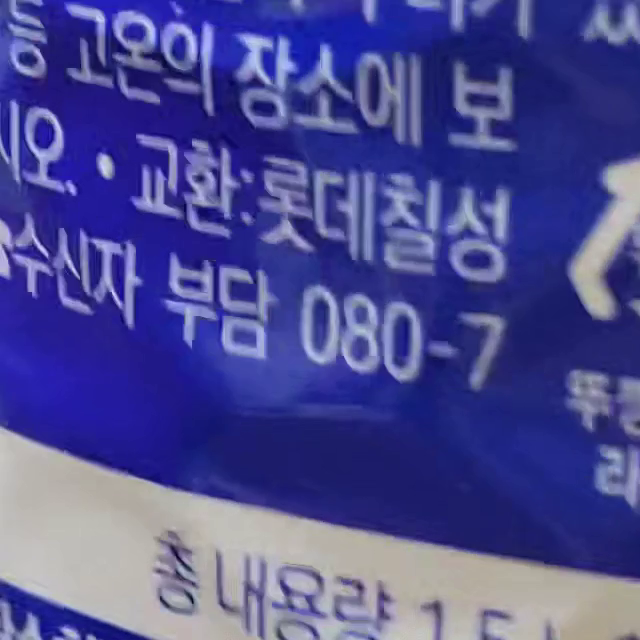ColorlessPet: (569, 151, 639, 320)
